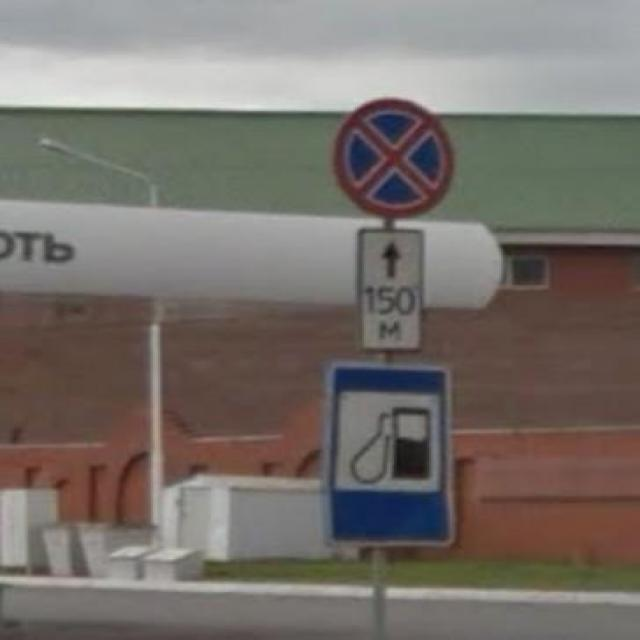traffic_sign: (324, 359, 457, 547), (330, 96, 460, 222)
